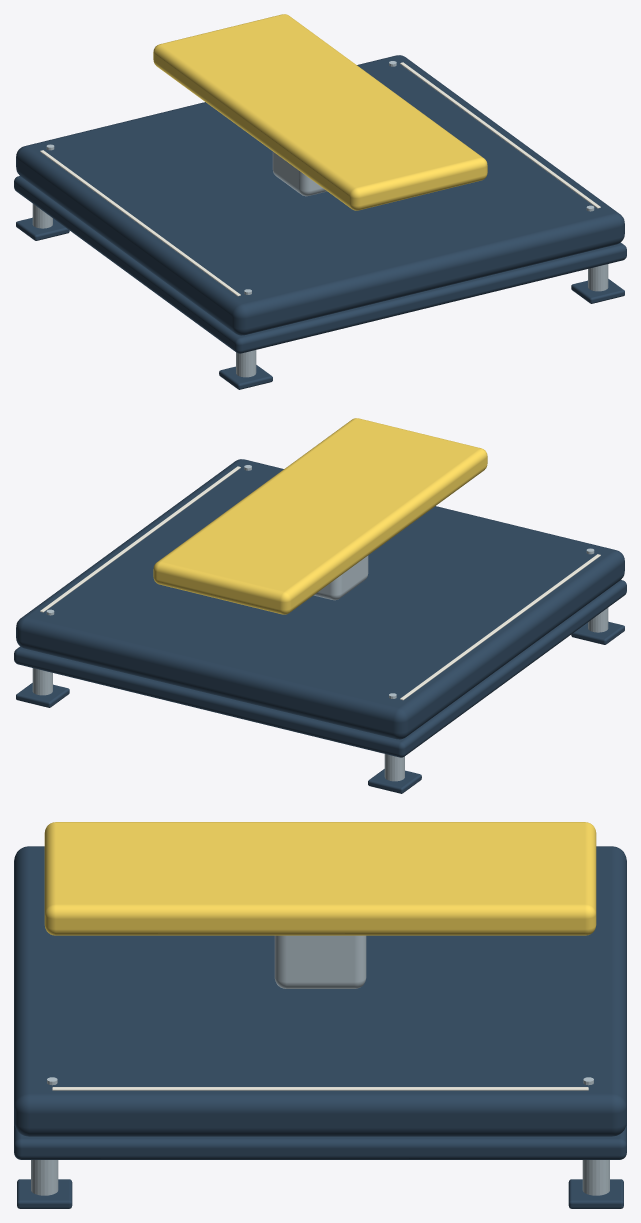
Rendered from party-obstacle-course-party-obstacle-course-tilting-se-6652bf9c__28932.glb.
3 renders of one model, top to bottom at view 1: azimuth 30°, elevation 25°; view 2: azimuth 150°, elevation 25°; view 3: azimuth 270°, elevation 25°, orthographic. The views are drawn at different scales.
Visible parts, largest first — view 1: party-obstacle-course-tilting-seesaw, plank; view 2: party-obstacle-course-tilting-seesaw, plank; view 3: party-obstacle-course-tilting-seesaw, plank.
Boxes of the visible parts, x1,y1,x2,y2 form: party-obstacle-course-tilting-seesaw: [14, 55, 626, 389]; plank: [153, 14, 487, 210]; party-obstacle-course-tilting-seesaw: [14, 459, 626, 793]; plank: [153, 418, 487, 614]; party-obstacle-course-tilting-seesaw: [14, 846, 626, 1208]; plank: [44, 822, 596, 935].
Bounding box in the file's own units: 4 × 1.57 × 4.
